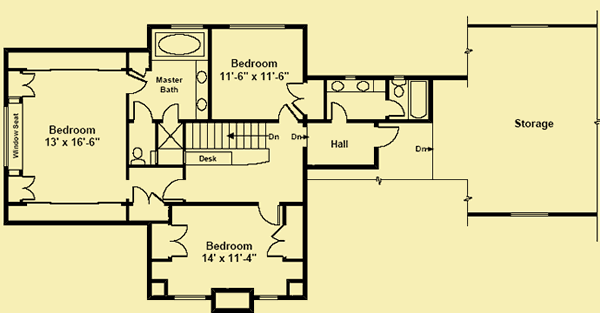door: (286, 79, 309, 118), (129, 186, 168, 207), (170, 222, 189, 260), (123, 71, 151, 96), (375, 125, 402, 149), (265, 225, 284, 258), (257, 202, 281, 227), (162, 177, 185, 203), (159, 99, 182, 124), (276, 102, 303, 123), (131, 100, 154, 124), (19, 72, 36, 100), (383, 97, 405, 118), (19, 174, 36, 200), (328, 102, 348, 122)
large_sink: (129, 146, 148, 166), (390, 78, 407, 99)
small_sink: (194, 61, 212, 121), (327, 77, 383, 92)
stairs: (183, 120, 277, 149)
tub: (151, 30, 206, 59), (409, 79, 430, 119)
window: (226, 22, 284, 30), (174, 292, 206, 301), (257, 293, 280, 303)
